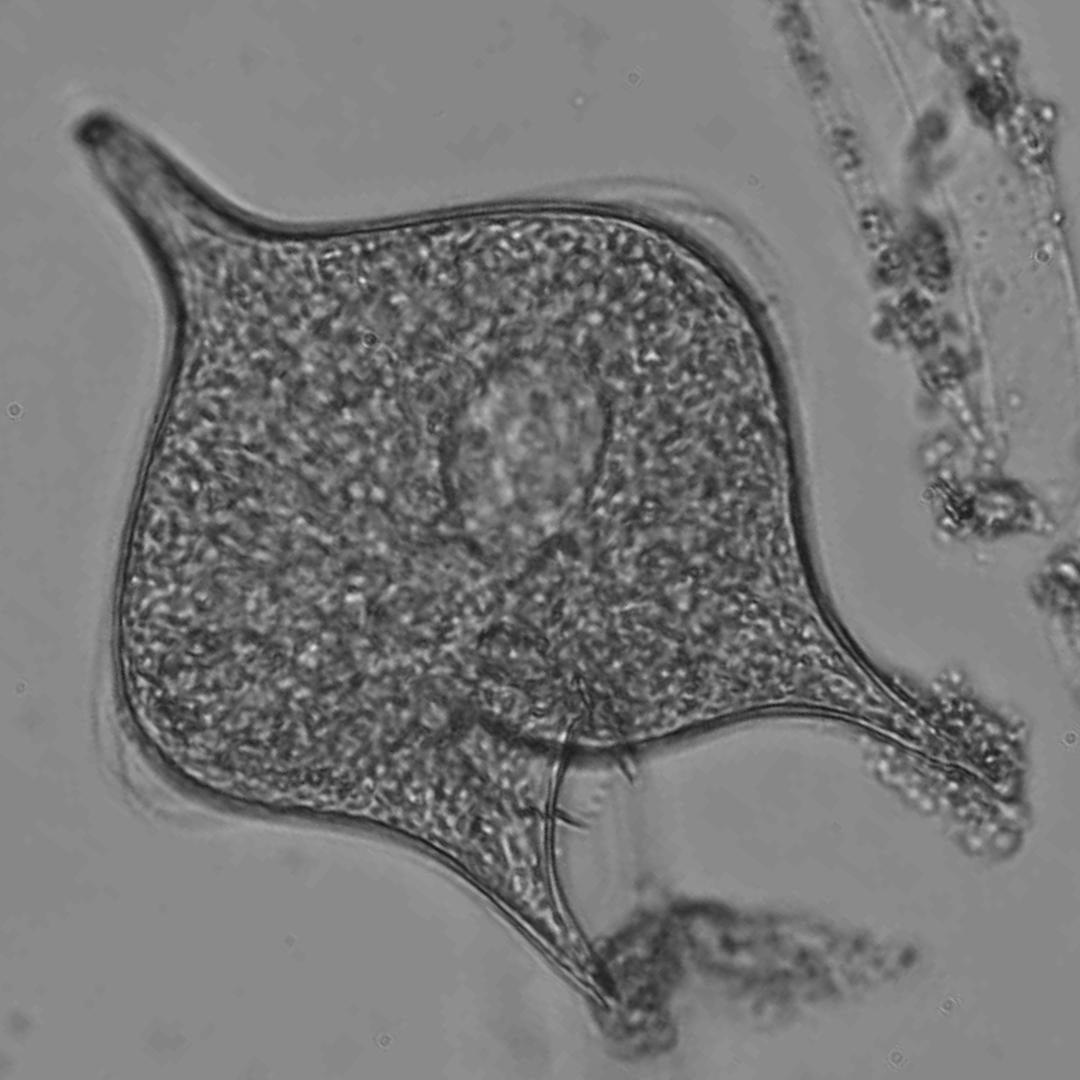protoperidinium_oceanicum: (82, 122, 1019, 1014)
